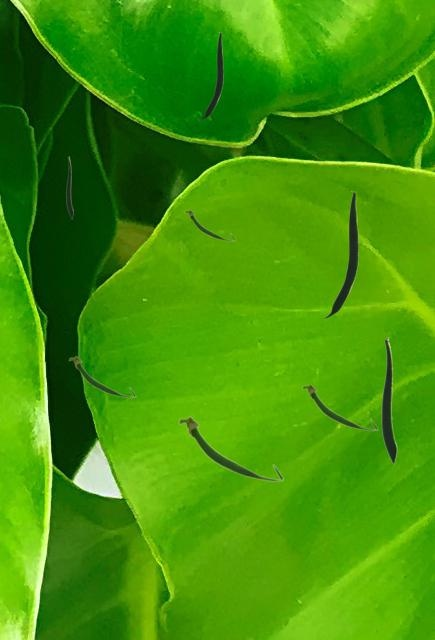french_bean: (177, 415, 283, 481), (323, 191, 357, 317), (301, 383, 377, 430), (68, 355, 135, 397), (200, 32, 222, 119), (381, 337, 396, 463), (184, 209, 234, 240), (66, 156, 72, 218)
